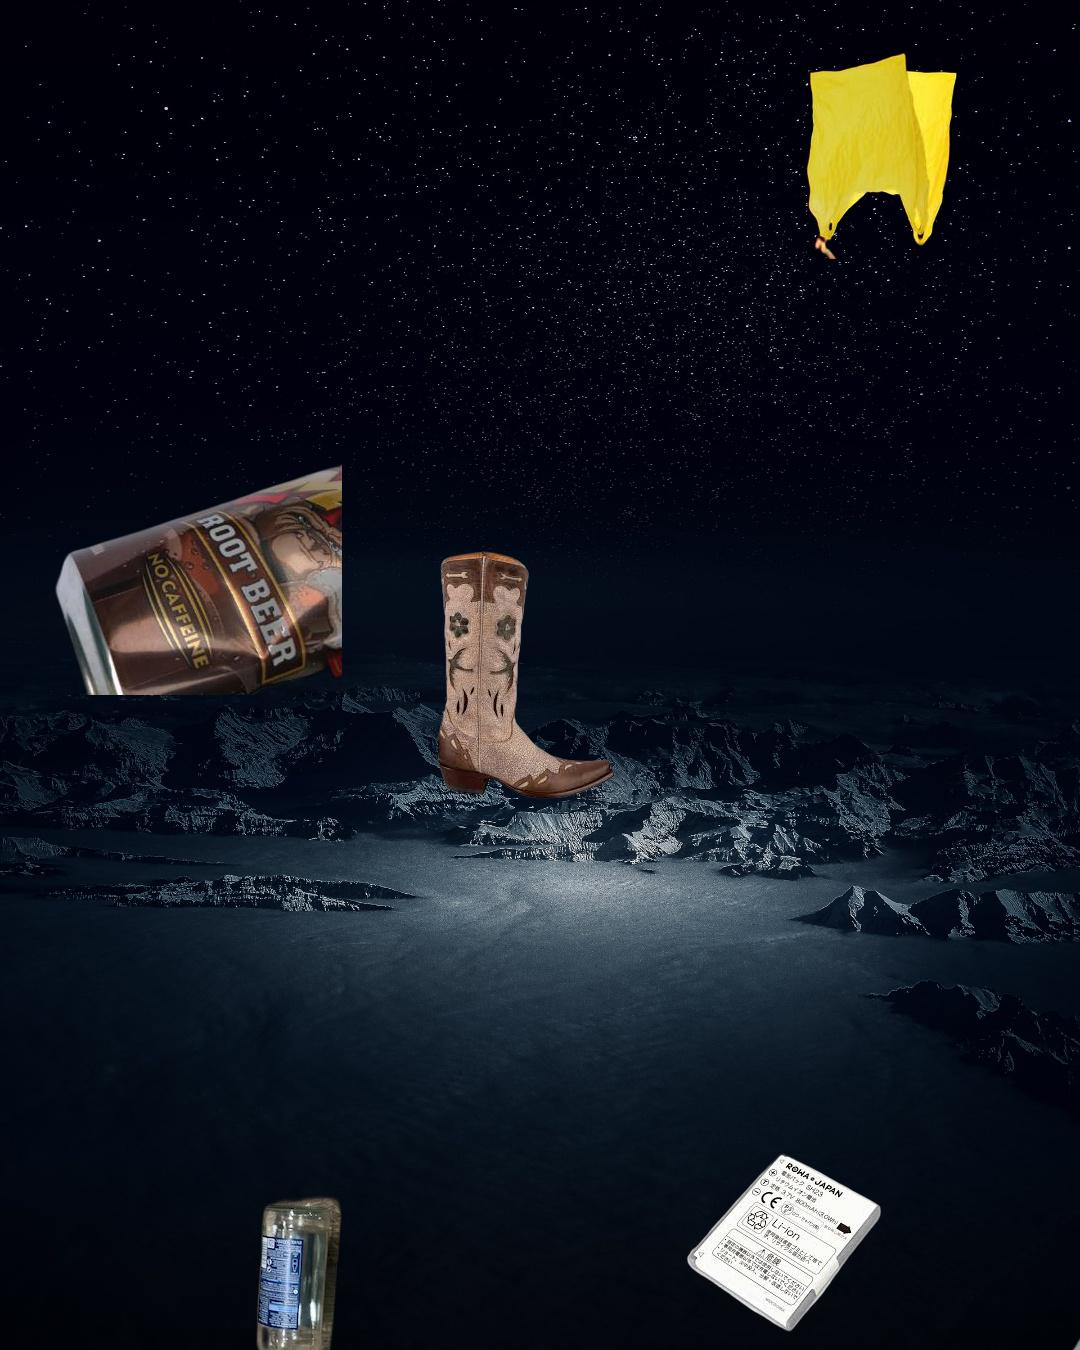battery: (684, 1151, 884, 1333)
clothes: (917, 1310, 1080, 1350)
glass: (252, 1191, 345, 1350)
metal-cans: (52, 461, 342, 695)
plastic-bag: (804, 51, 960, 259)
shoes: (435, 550, 618, 801)
